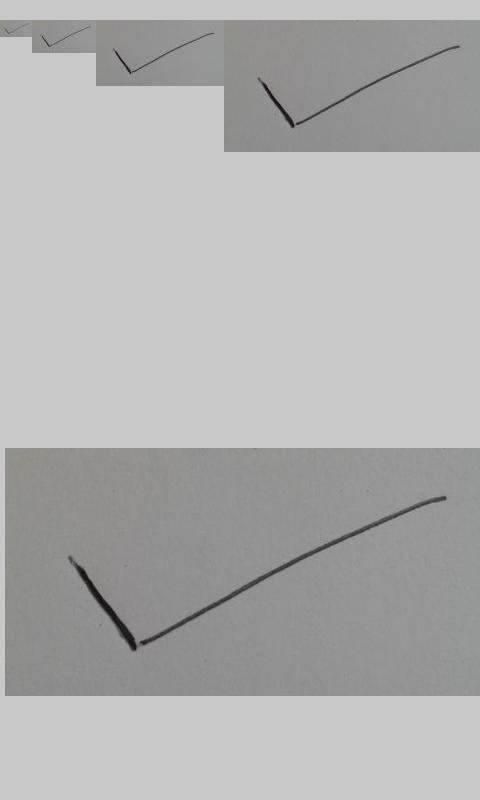check_box: (68, 495, 447, 650), (257, 45, 460, 129), (113, 32, 214, 74), (42, 26, 89, 48), (3, 23, 28, 34)
